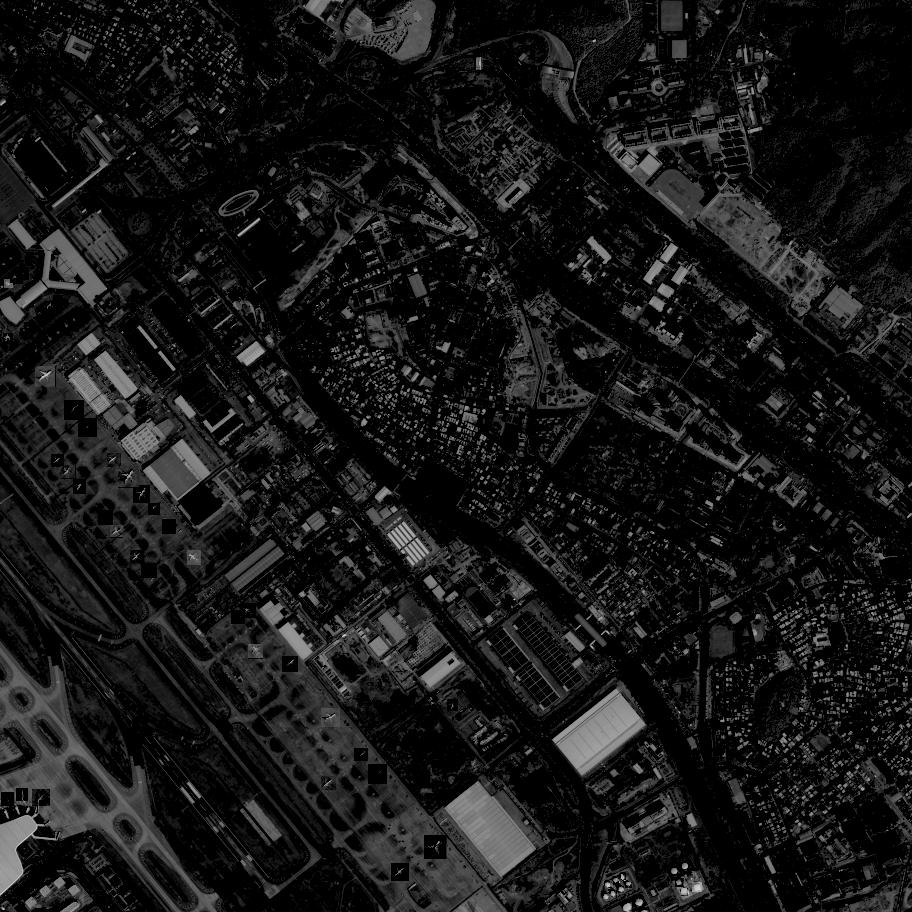plane: (424, 836, 448, 860), (118, 467, 140, 489), (35, 367, 57, 388), (321, 708, 341, 728), (368, 765, 388, 785), (64, 400, 84, 420), (78, 418, 98, 437), (32, 789, 50, 808), (392, 863, 410, 882), (134, 485, 152, 504), (133, 717, 149, 734), (282, 657, 299, 673), (240, 603, 257, 619), (141, 564, 157, 580), (61, 465, 76, 481), (188, 550, 203, 566), (98, 510, 113, 526), (322, 776, 337, 791), (249, 645, 264, 660), (131, 551, 146, 566), (162, 520, 177, 535), (73, 480, 87, 495), (108, 453, 122, 468), (1, 793, 15, 807), (231, 611, 245, 625), (148, 504, 162, 517), (354, 748, 368, 761), (51, 454, 65, 467), (17, 267, 30, 281), (111, 525, 124, 538), (16, 788, 28, 802), (37, 307, 49, 320), (448, 700, 459, 712), (10, 273, 21, 285), (45, 301, 56, 312), (53, 295, 64, 305), (25, 322, 35, 333), (4, 334, 14, 345), (5, 279, 14, 289), (20, 328, 28, 337), (0, 285, 5, 292)
storage-tank: (633, 896, 644, 909), (692, 882, 702, 893), (602, 892, 612, 901), (676, 879, 685, 888), (623, 903, 632, 911), (618, 886, 625, 894), (625, 882, 633, 889), (689, 873, 695, 882), (671, 869, 678, 875), (681, 889, 687, 895), (683, 864, 689, 870), (605, 882, 611, 888), (611, 890, 616, 897), (613, 879, 619, 884), (621, 874, 625, 880)
